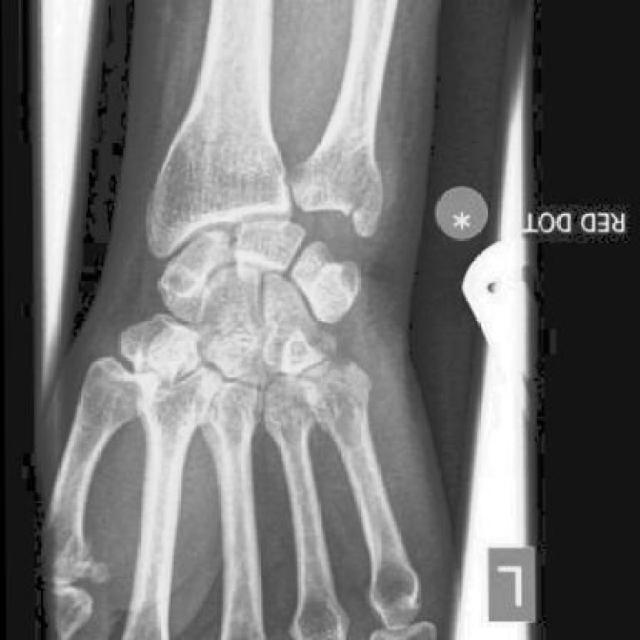Fracture: (346, 196, 368, 230)
